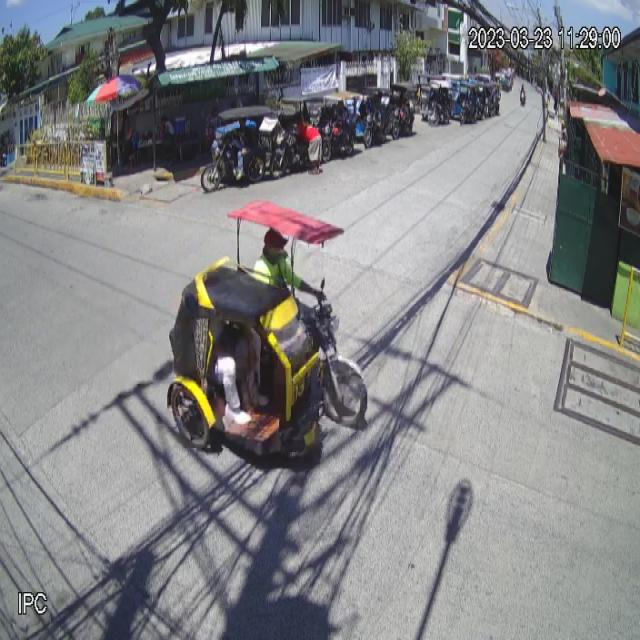Tricycle: (166, 200, 368, 468)
